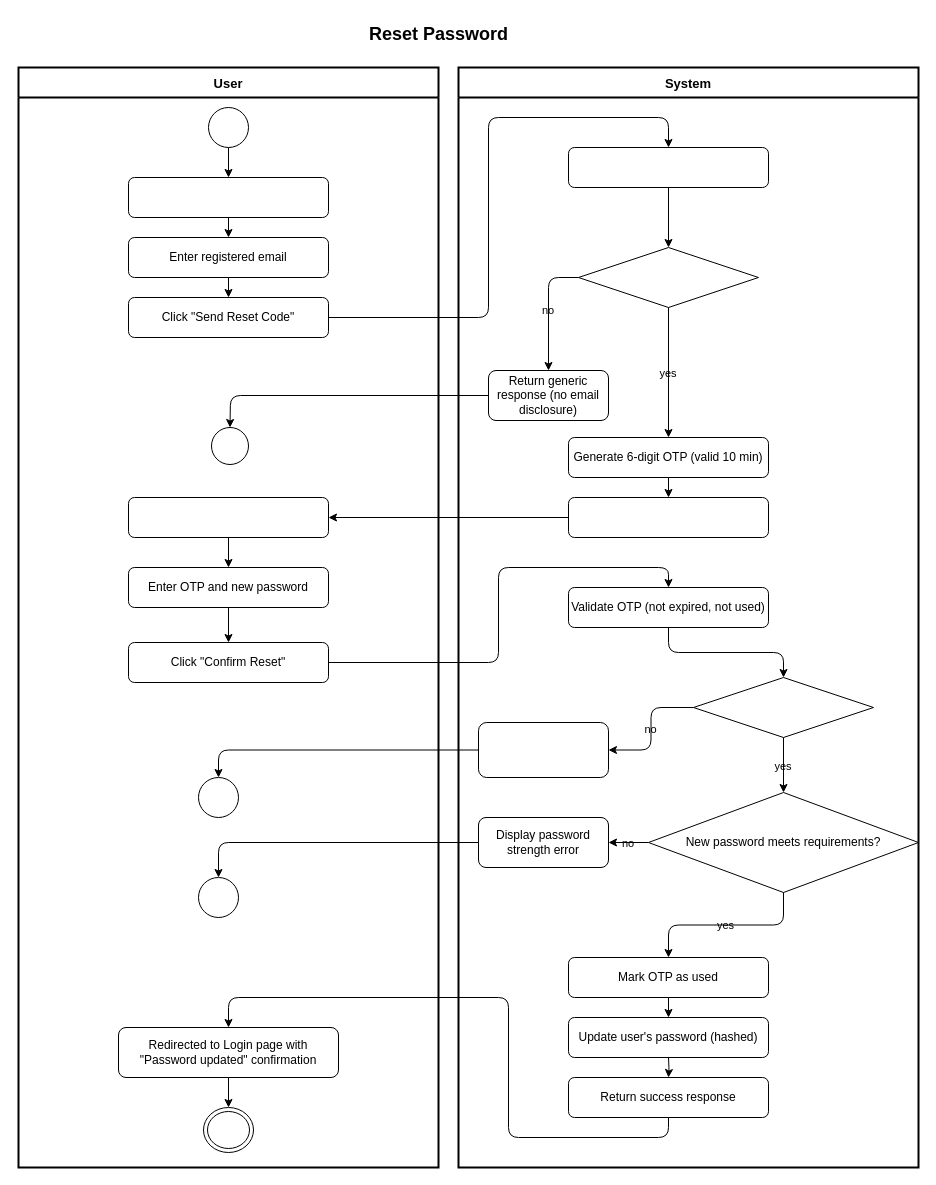
Some shapes in this 936 by 1185 pixel diagram are drawn without their labels. Here are the shapes that lost their labels. From the top down, the centre of each, then its label:
(668,167): Look up user by email
(228,197): Navigate to "Forgot Password" page
(668,277): User found?
(228,517): Receive OTP email
(668,517): Send OTP to user's email
(783,707): OTP valid?
(543,750): Display "Invalid or expired code" error
